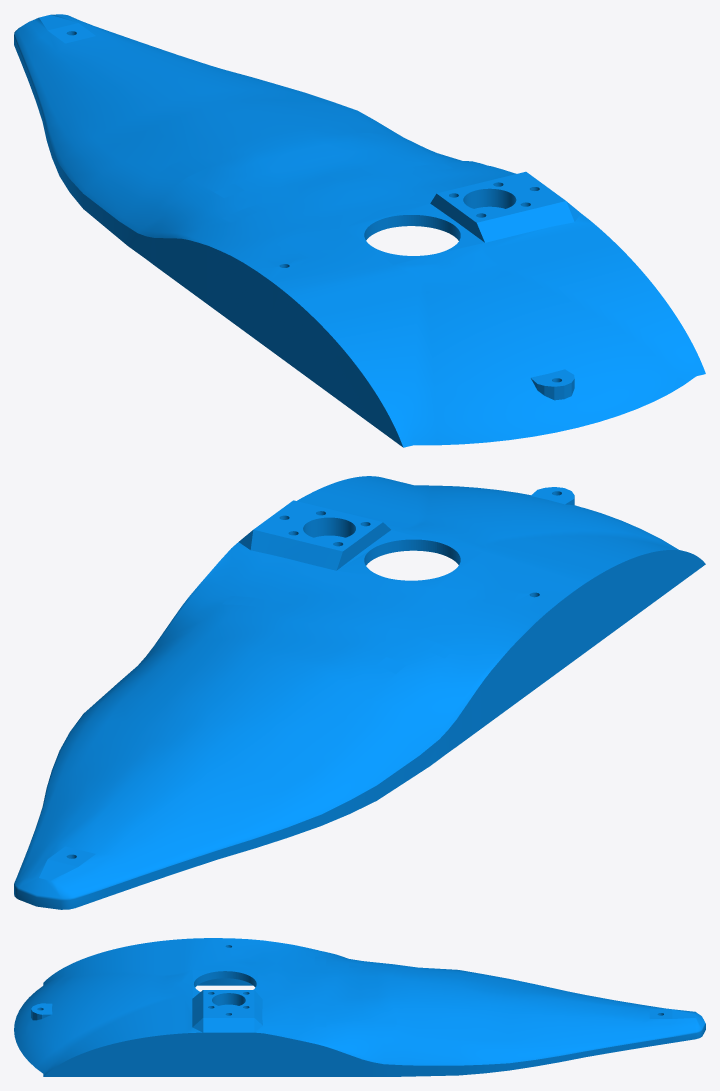
The model's file is MantaCase_Tadpole_20221208_Top.obj.
The picture shows the model from 3 angles, top to bottom: view 1: azimuth 30°, elevation 25°; view 2: azimuth 150°, elevation 25°; view 3: azimuth 270°, elevation 25°; orthographic projection. The views are drawn at different scales.
Parts seen in each view (by area): view 1: polySurface2149; view 2: polySurface2149; view 3: polySurface2149.
Part boxes in pixels (x1=…): polySurface2149: x1=14, y1=14, x2=705, y2=447; polySurface2149: x1=14, y1=476, x2=705, y2=909; polySurface2149: x1=14, y1=938, x2=705, y2=1076.
Bounding box in the file's own units: 68.64 × 18.47 × 213.
